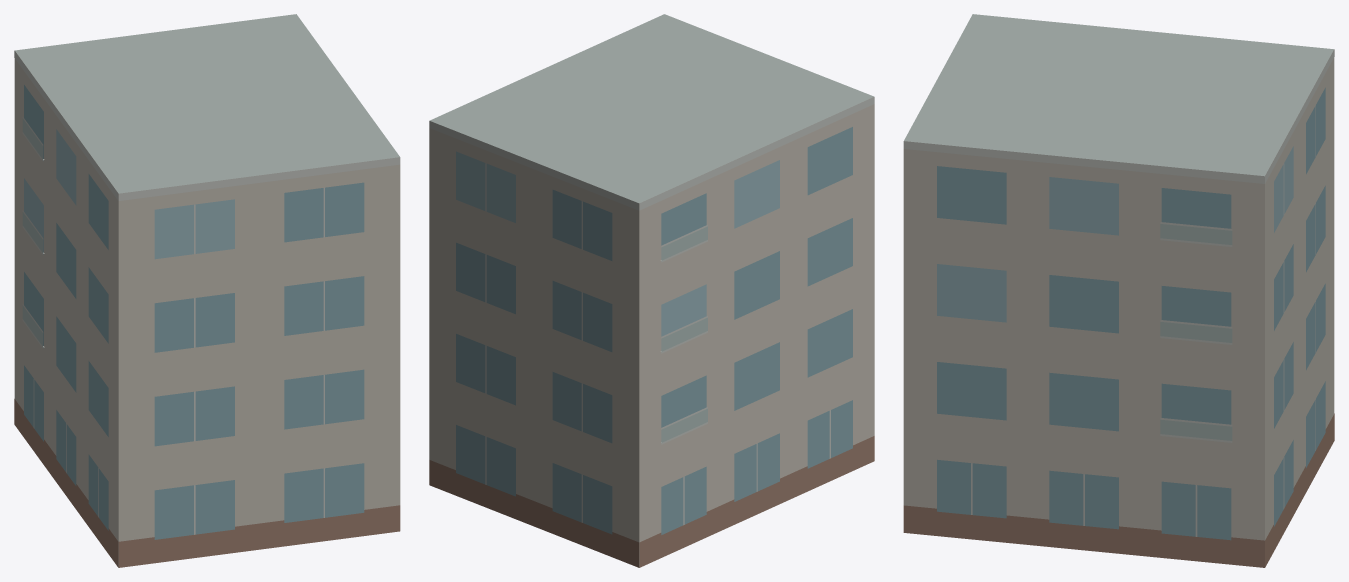
File: residential-f38d6af1-61dc-4f59-9480-2398926d2289.glb
3 renders of one model, left to right at view 1: azimuth 30°, elevation 25°; view 2: azimuth 150°, elevation 25°; view 3: azimuth 270°, elevation 25°, orthographic. The views are drawn at different scales.
Visible parts, largest first — view 1: residential-f38d6af1-61dc-4f59-9480-2398926d2289.tmp; view 2: residential-f38d6af1-61dc-4f59-9480-2398926d2289.tmp; view 3: residential-f38d6af1-61dc-4f59-9480-2398926d2289.tmp.
Boxes of the visible parts, left/top/right/bottom form: residential-f38d6af1-61dc-4f59-9480-2398926d2289.tmp: left=14, top=14, right=400, bottom=567; residential-f38d6af1-61dc-4f59-9480-2398926d2289.tmp: left=429, top=14, right=874, bottom=567; residential-f38d6af1-61dc-4f59-9480-2398926d2289.tmp: left=903, top=14, right=1334, bottom=567.
Bounding box in the file's own units: 10.84 × 12.2 × 12.17.
